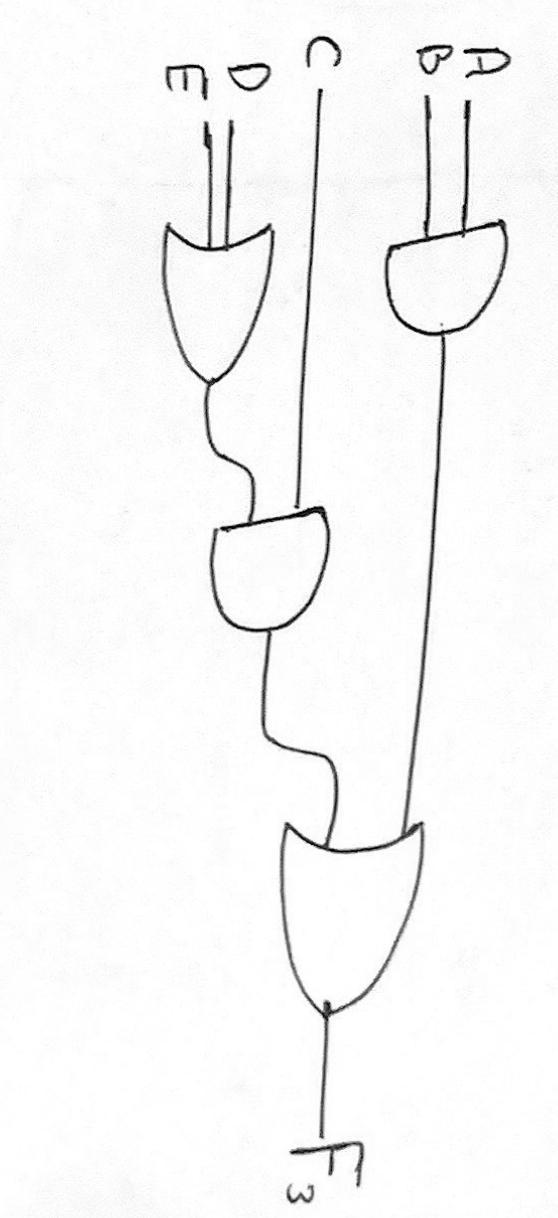AND: (357, 196, 540, 372), (170, 495, 357, 648)
OR: (225, 805, 466, 1055), (140, 200, 283, 386)
